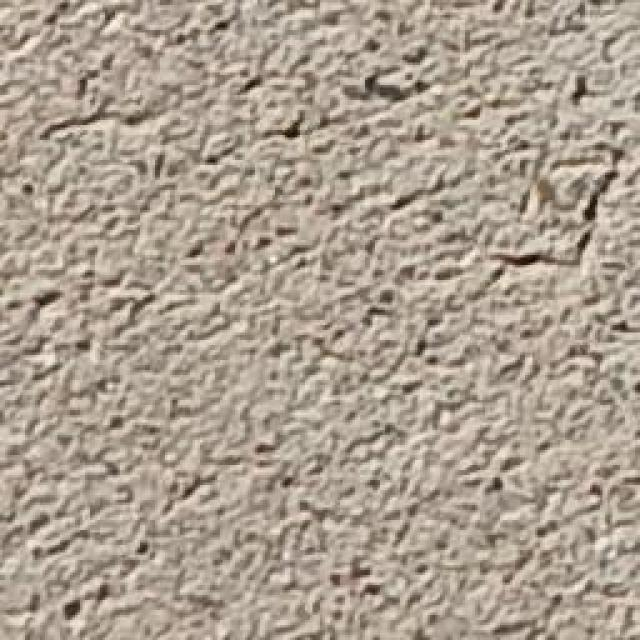concrete-crack: (473, 107, 628, 273)
